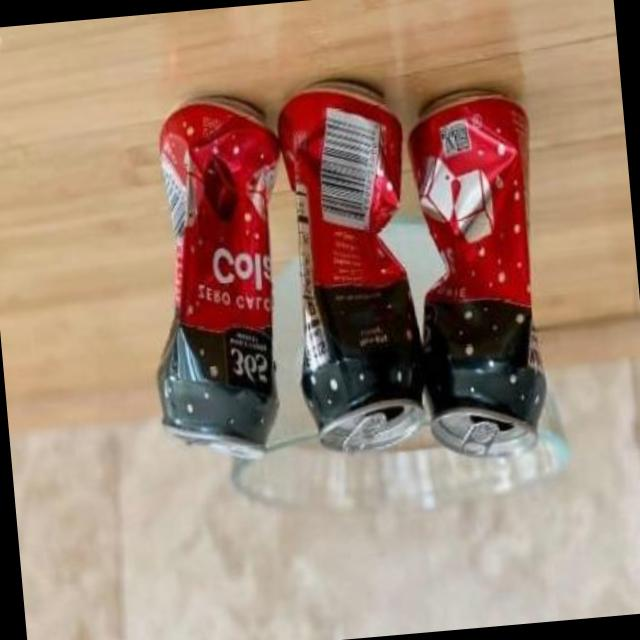metal: (276, 84, 421, 454), (406, 94, 543, 459), (156, 100, 276, 460)
